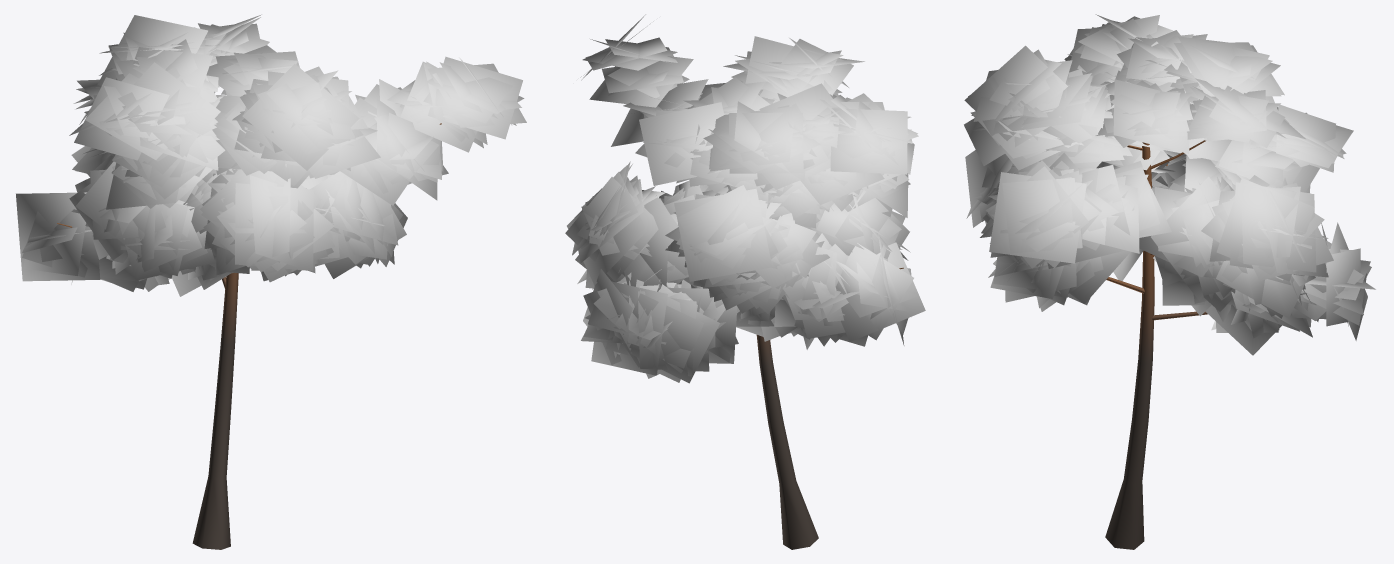
The picture shows the model from 3 angles, left to right: view 1: azimuth 30°, elevation 25°; view 2: azimuth 150°, elevation 25°; view 3: azimuth 270°, elevation 25°; orthographic projection. The views are drawn at different scales.
Visible parts, largest first — view 1: crown, trunk; view 2: crown, trunk; view 3: crown, trunk.
Part boxes in pixels (x1,y1,x2,y2): crown: (16, 14, 526, 296); trunk: (57, 123, 441, 549); crown: (565, 14, 925, 383); trunk: (756, 267, 903, 549); crown: (964, 14, 1375, 355); trunk: (1105, 140, 1207, 549).
Bounding box in the file's own units: 17.79 × 19.34 × 14.73.
